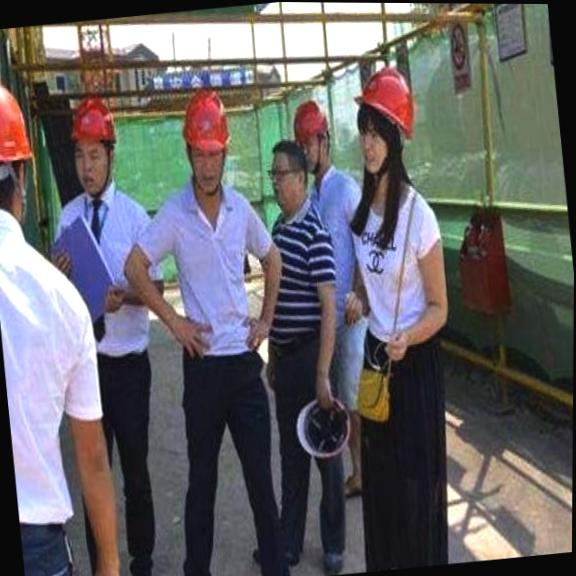no_safety_vest: (0, 206, 116, 515), (135, 179, 274, 365), (44, 182, 173, 367), (344, 175, 460, 366), (251, 205, 348, 355), (301, 169, 377, 336)
